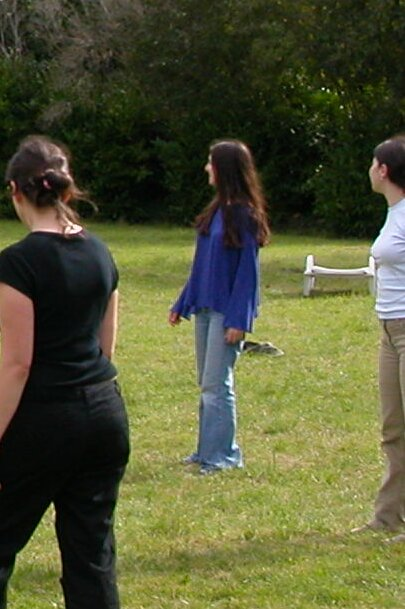person: (1, 139, 131, 608), (167, 132, 265, 483), (345, 130, 405, 545)
